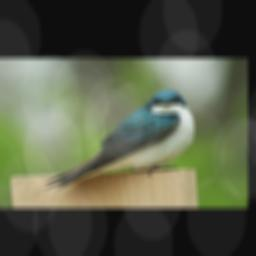Swallow: (42, 89, 197, 191)
